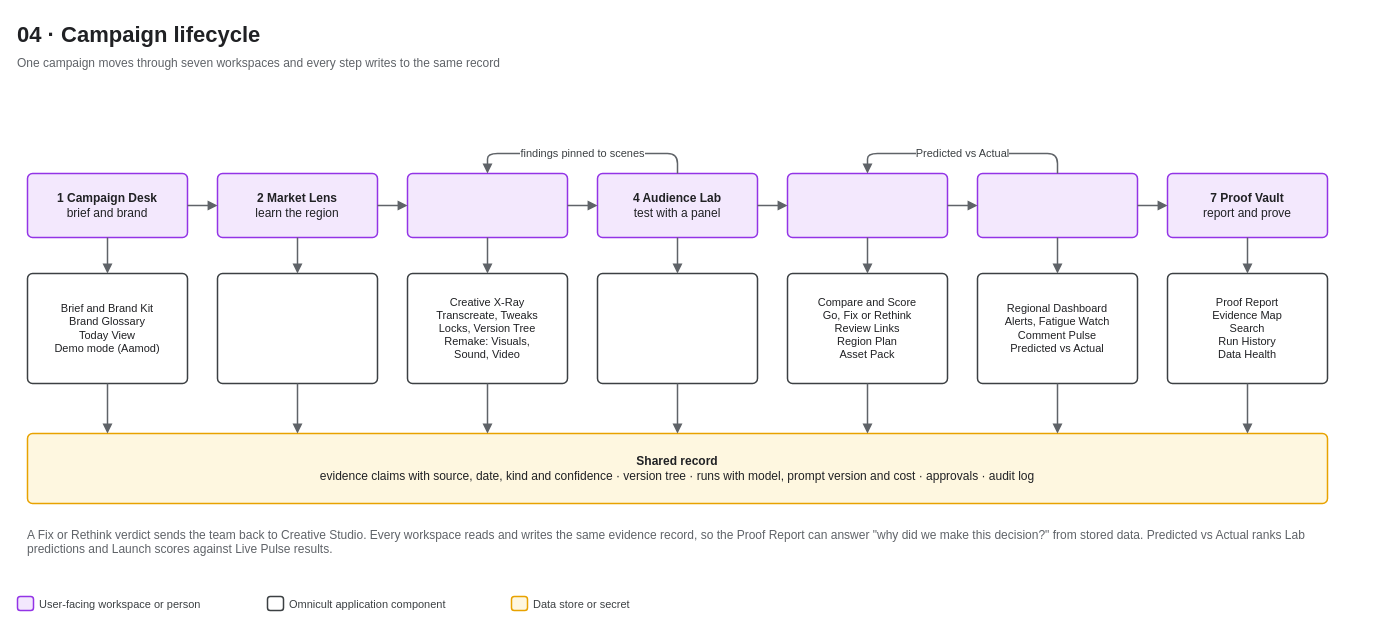
Some shapes in this 1375 by 630 pixel diagram are drawn without their labels. Here are the shapes that lost their labels. From the top down, the box of each, then its label:
(406, 172, 568, 238): 3 Creative Studio inspect and remake
(786, 172, 948, 238): 5 Launch Room decide and approve
(976, 172, 1138, 238): 6 Live Pulse watch results
(216, 272, 378, 384): State Profile Language Map Moment Calendar Market Compare Evidence Meter
(596, 272, 758, 384): Quick Read, Study Ask the Panel Focus Group, Buzz Message Check Risk Check
